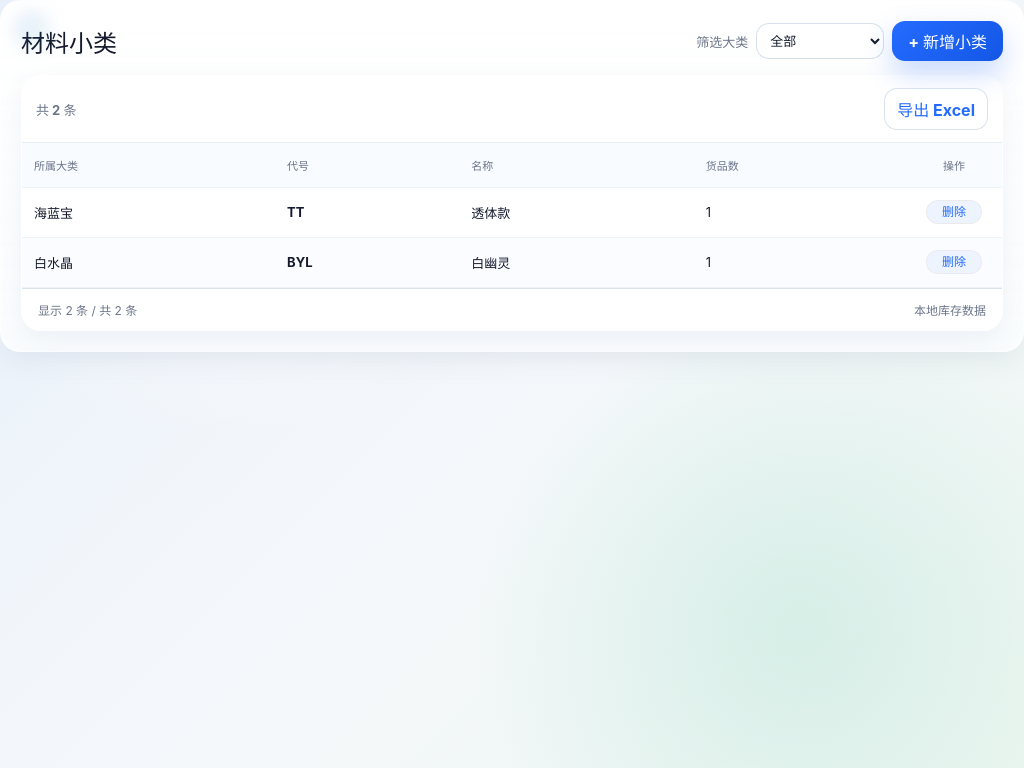
Scenario: MaterialsPage › filters subtypes by group and materials by color
Later steps or results of the test are not shown.
Expected: the text "透体款" is shown, [459,187,694,237]
Expected: the text "白幽灵" is shown, [459,237,694,287]
Select "海蓝宝" in the dropdown labelled "筛选大类": (820, 41) [756,23,884,59]
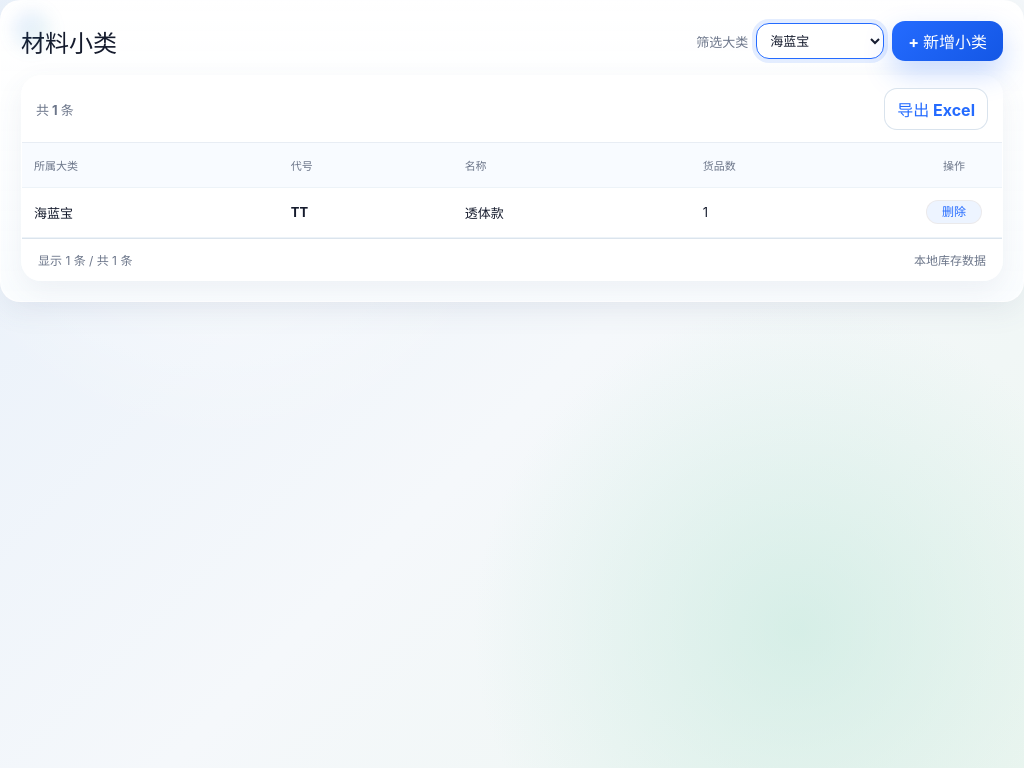
Expected: the text "透体款" is shown, [453,187,691,237]
Expected: the text "白幽灵" is gone
